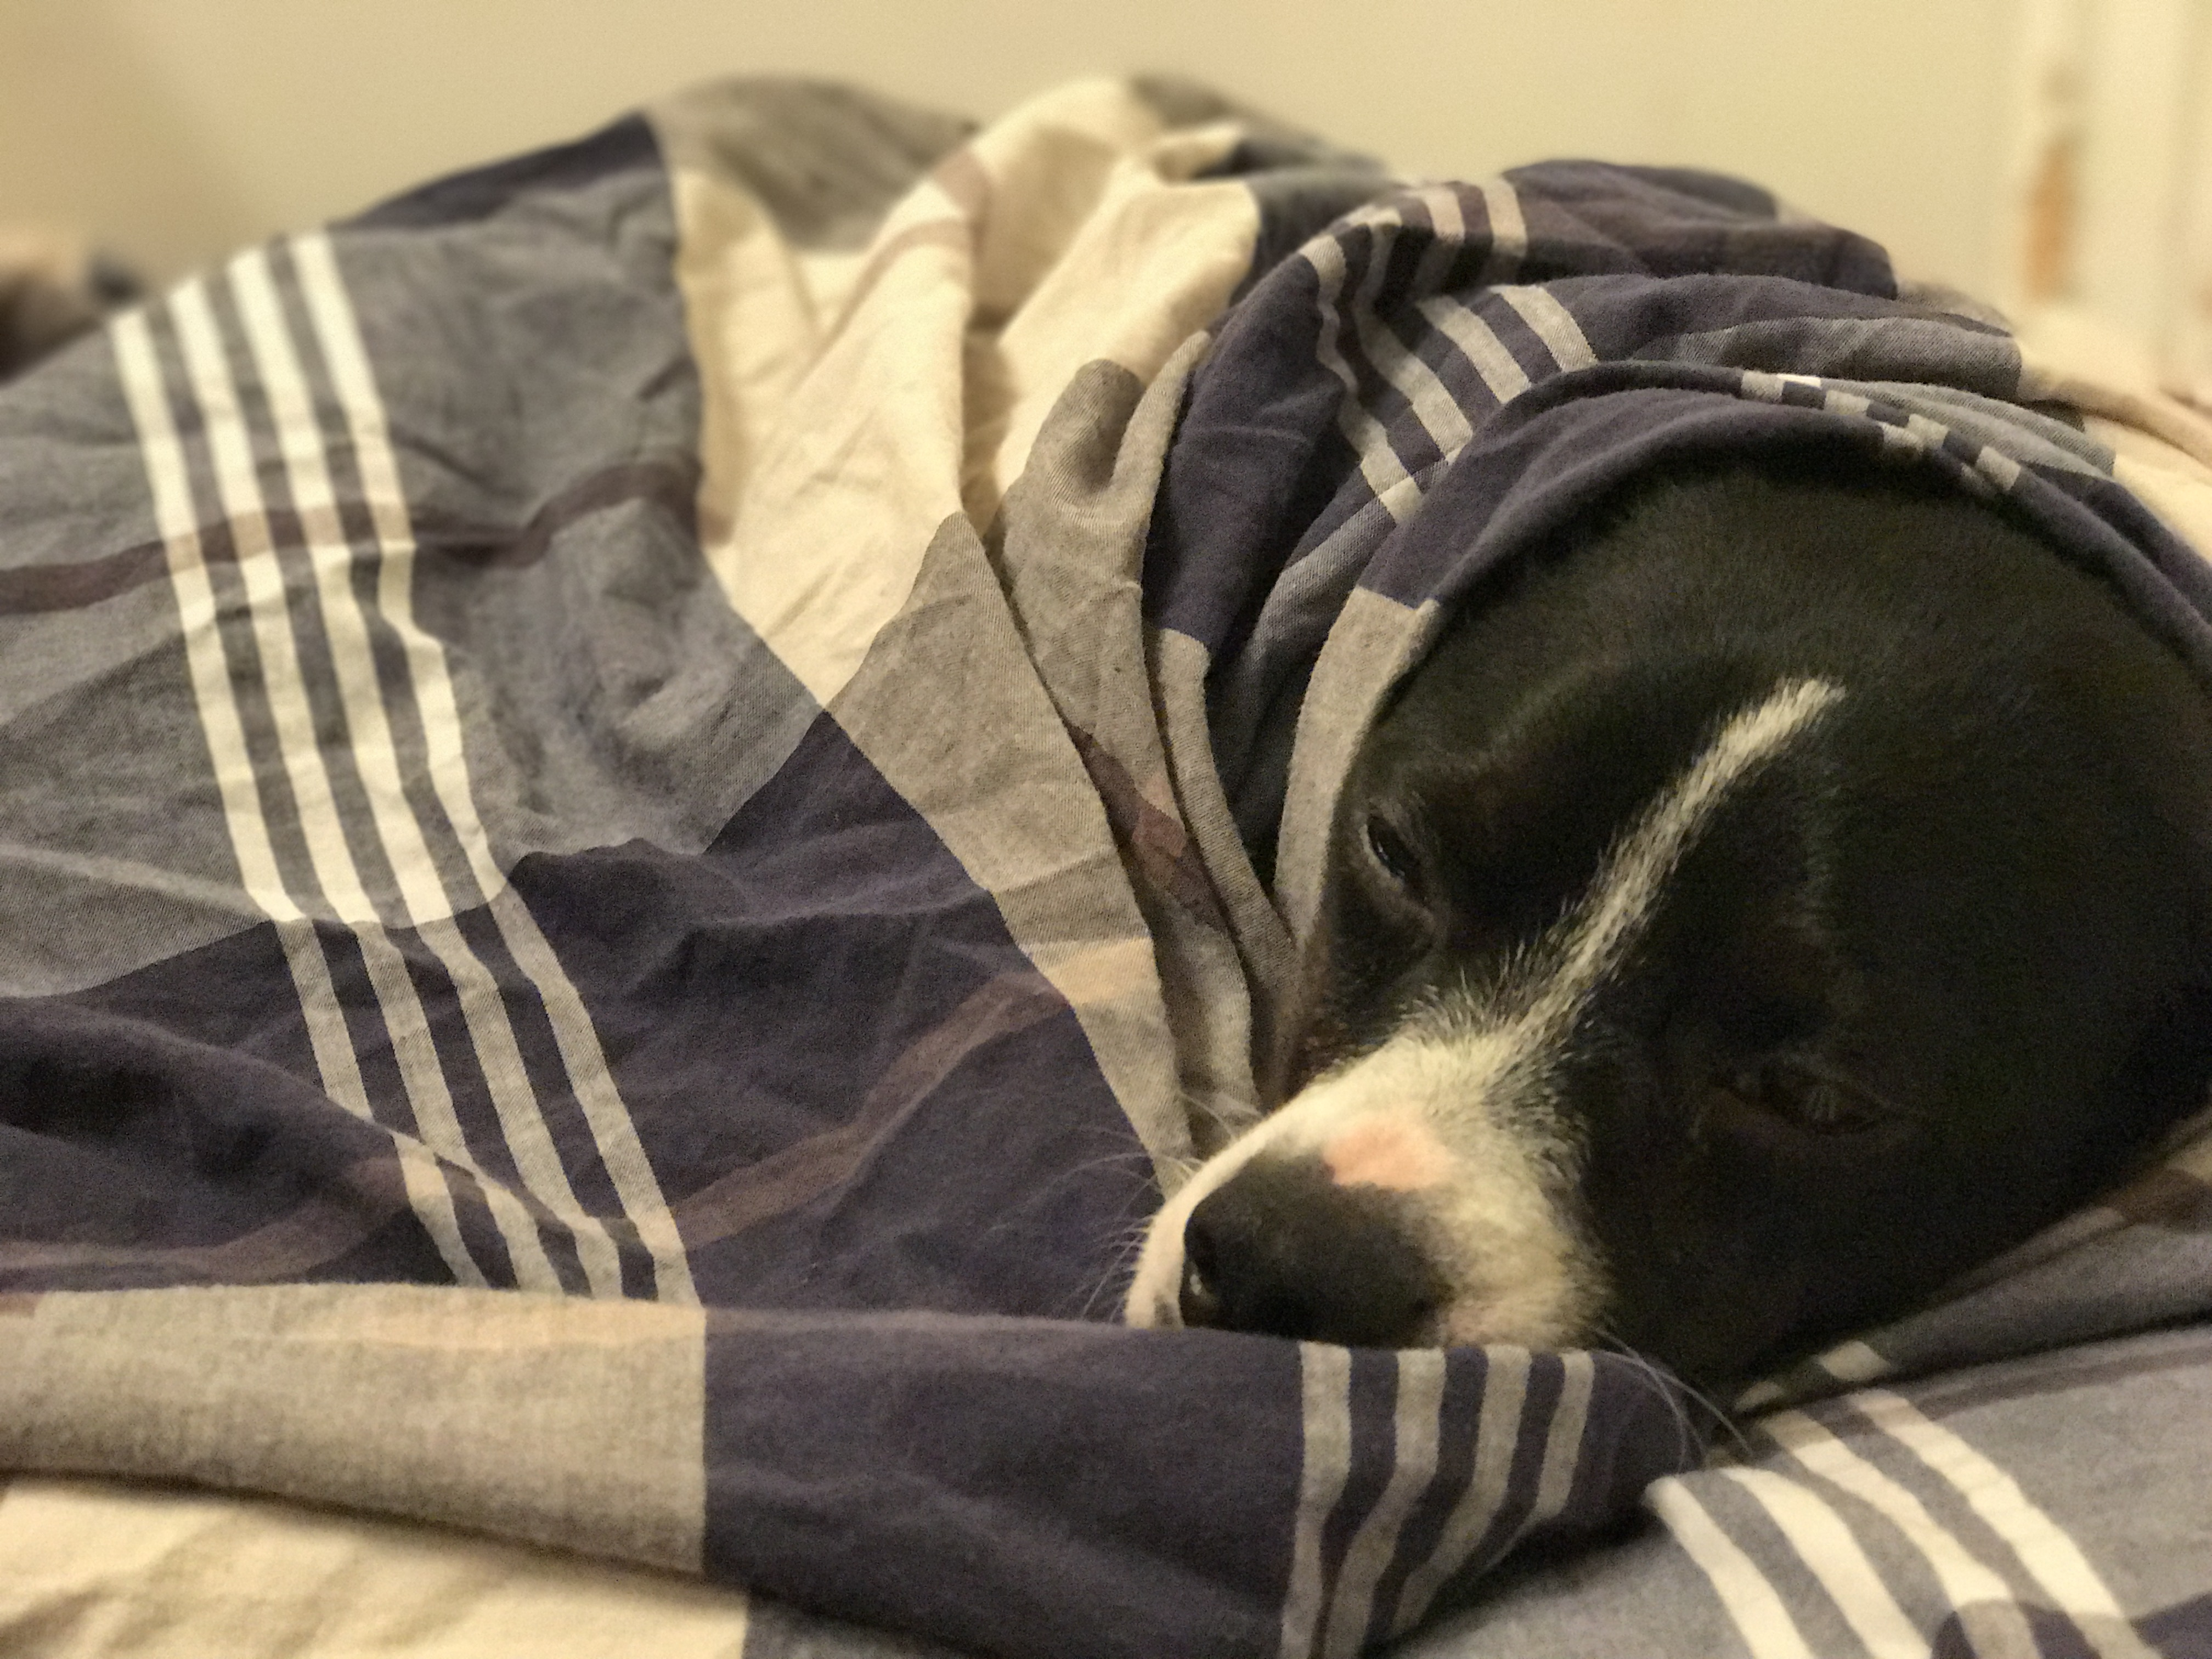Harley: (1101, 484, 2212, 1424)
